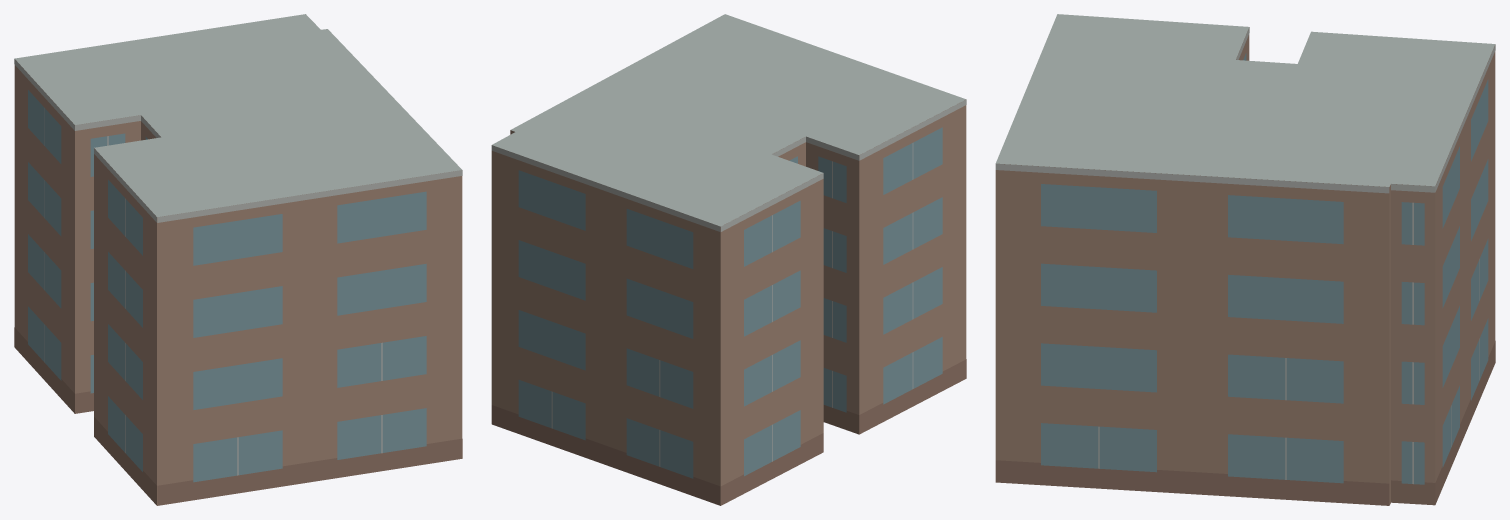
File: survey-upis-32656911.glb
The picture shows the model from 3 angles, left to right: view 1: azimuth 30°, elevation 25°; view 2: azimuth 150°, elevation 25°; view 3: azimuth 270°, elevation 25°; orthographic projection. The views are drawn at different scales.
Parts seen in each view (by area): view 1: survey-upis-32656911.tmp; view 2: survey-upis-32656911.tmp; view 3: survey-upis-32656911.tmp.
Part boxes in pixels (x1,y1,x2,y2): survey-upis-32656911.tmp: (14, 14, 462, 505); survey-upis-32656911.tmp: (491, 14, 966, 505); survey-upis-32656911.tmp: (995, 14, 1495, 505).
Bounding box in the file's own units: 14.09 × 12.1 × 17.2.
